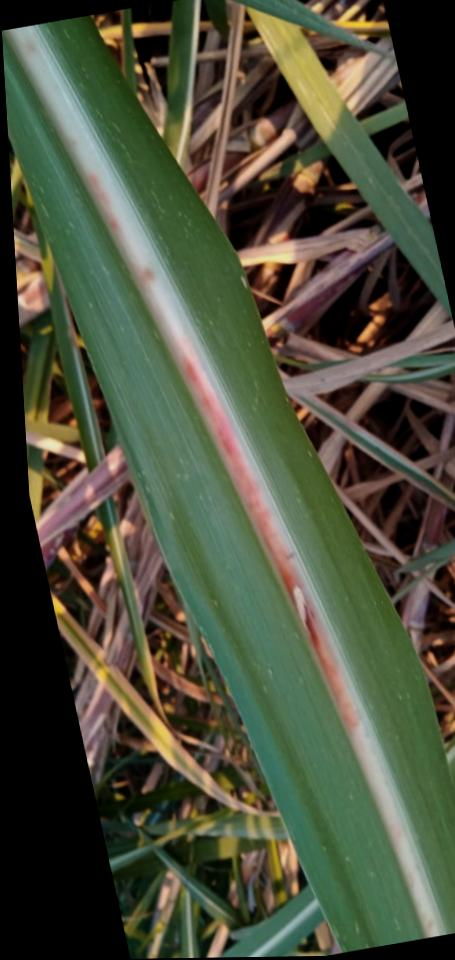RedRot: (78, 170, 363, 736)
